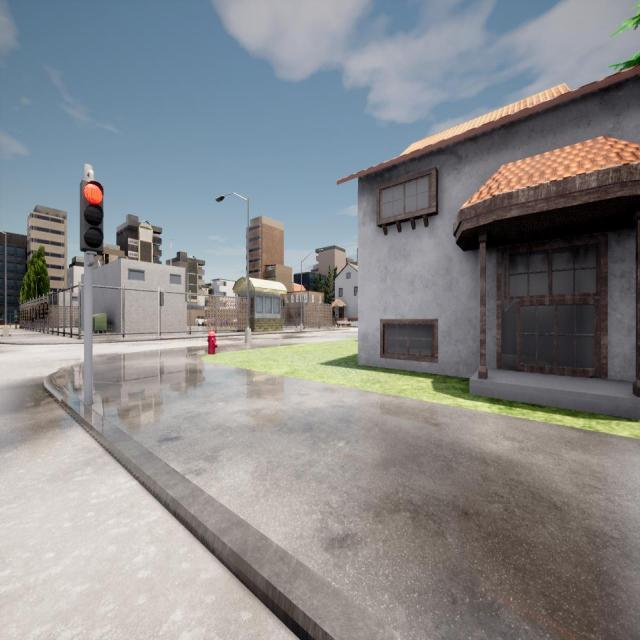Pedestrian: (14, 310, 18, 330)
Vehicle: (196, 316, 208, 325)
traffic_light: (82, 183, 104, 250), (160, 292, 164, 306)
